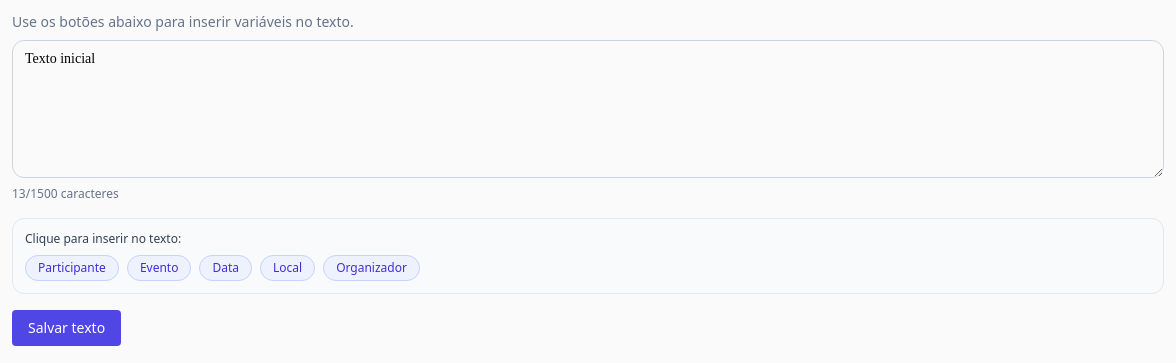
Test: CertificateTextEditor › insere placeholder ao clicar no botão
Click the button "Participante" at (72, 268), box [25,255,119,281]
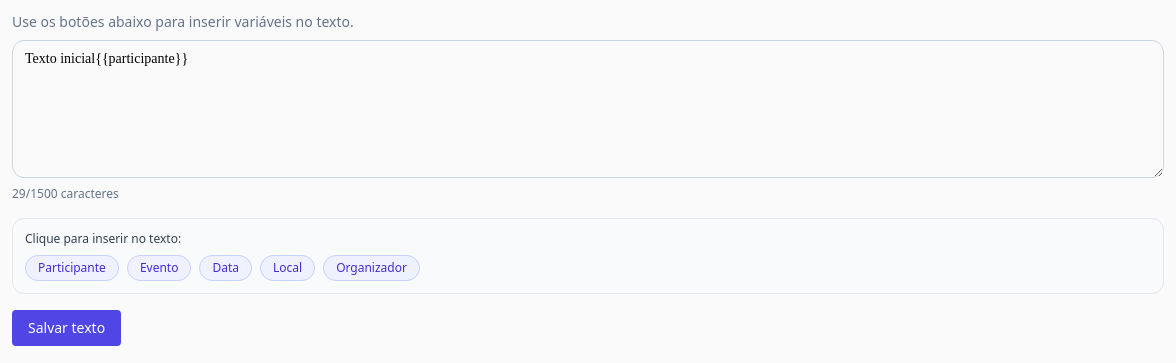
Check: the text box showing "Texto inicial{{participante}}" is shown, box [12,40,1164,178]
